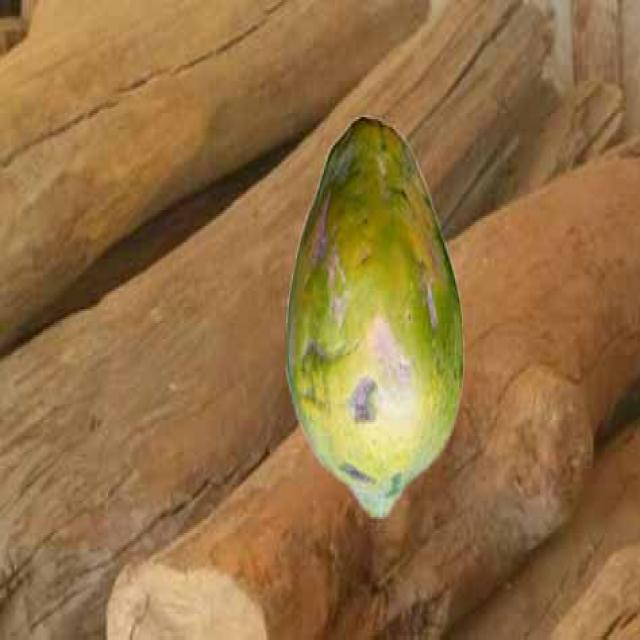Pepaya rippen: (281, 109, 474, 525)
